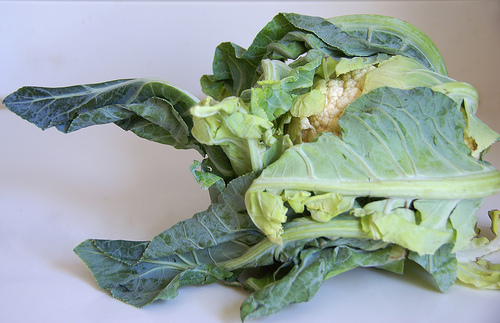cauliflower: (0, 1, 499, 322)
